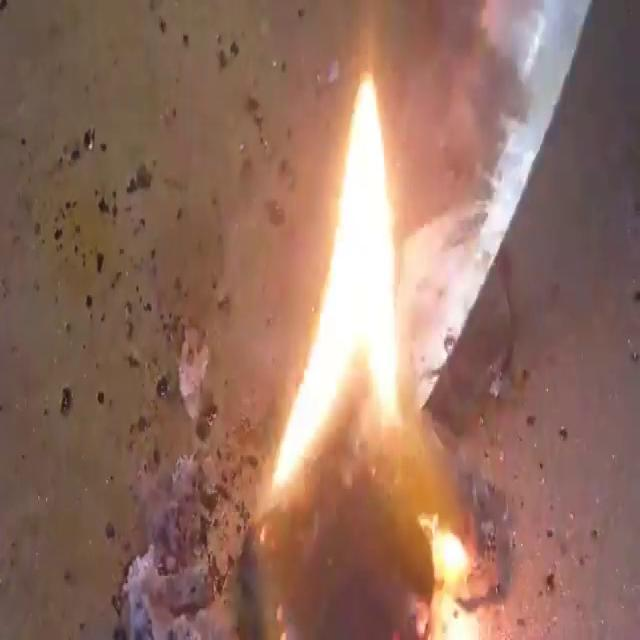Fire: (4, 4, 625, 636), (269, 68, 405, 500)
